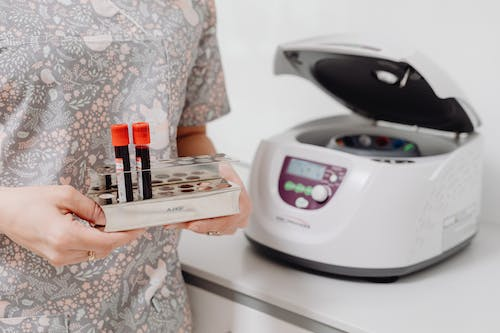blood: (113, 144, 134, 203), (134, 144, 153, 200)
